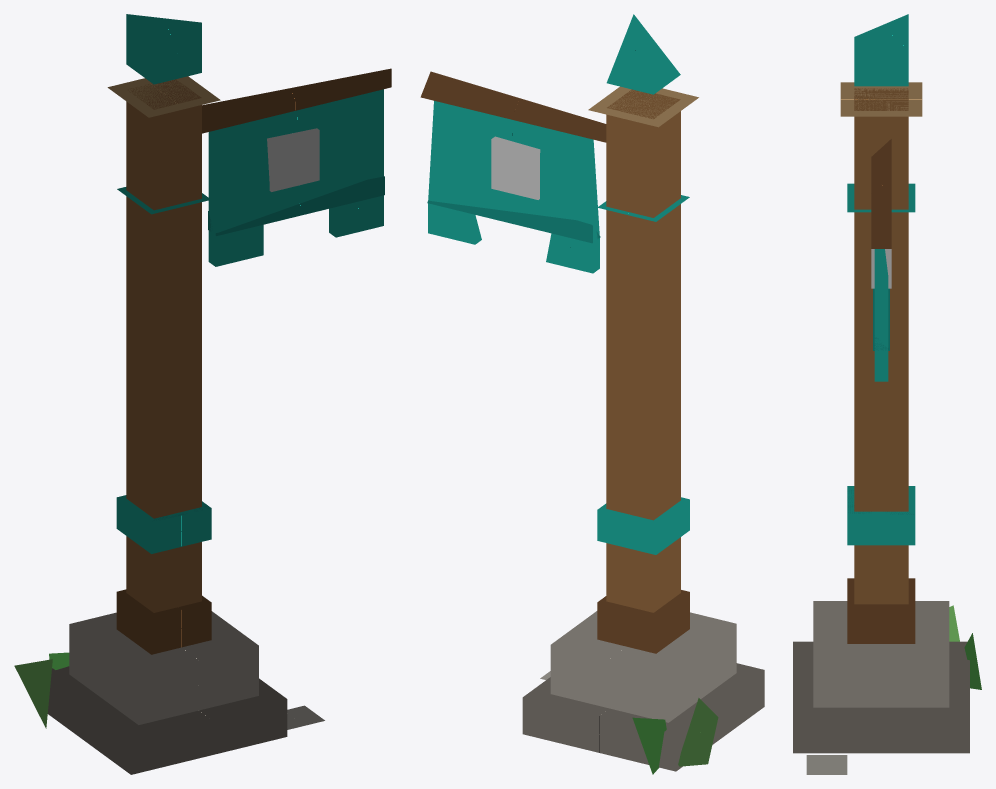
File: territory-marker-hummingbird_lod1.glb
3 renders of one model, left to right at view 1: azimuth 30°, elevation 25°; view 2: azimuth 150°, elevation 25°; view 3: azimuth 270°, elevation 25°, orthographic. The views are drawn at different scales.
Parts seen in each view (by area): view 1: marker-post, banner; view 2: marker-post, banner; view 3: marker-post, banner.
Part boxes in pixels (x1,y1,x2,y2): marker-post: (14, 14, 324, 774); banner: (202, 68, 391, 266); marker-post: (522, 14, 764, 774); banner: (420, 71, 606, 273); marker-post: (793, 14, 981, 774); banner: (871, 139, 891, 381).
Bounding box in the file's own units: 0.5581 × 1.12 × 0.2778.
